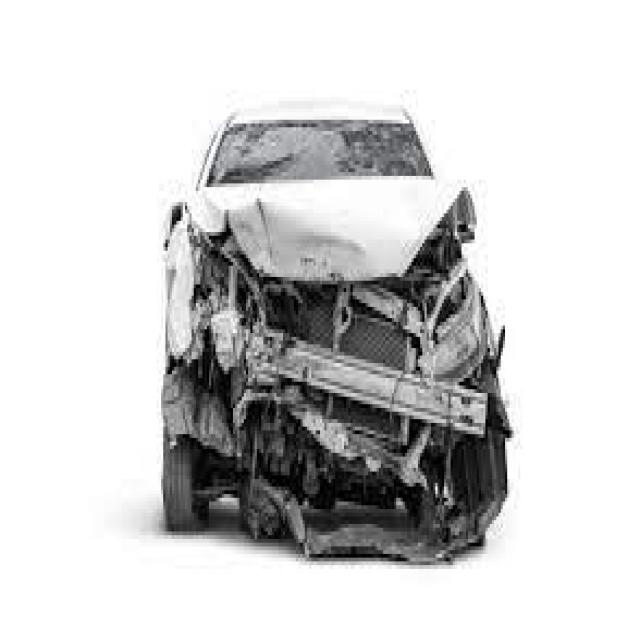severe: (145, 116, 571, 582)
